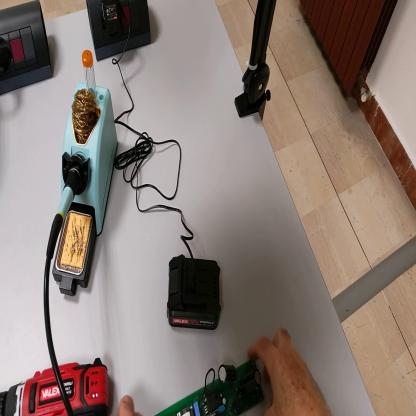electric screwdriver: (2, 363, 110, 414)
electric screwdriver battery: (166, 256, 223, 332)
hand: (247, 331, 331, 415), (118, 395, 144, 416)
high voltage board: (156, 359, 266, 416)
socket: (1, 4, 54, 95), (87, 1, 153, 64)
welder base: (52, 30, 119, 298)
welder probe tip: (48, 164, 84, 257)
